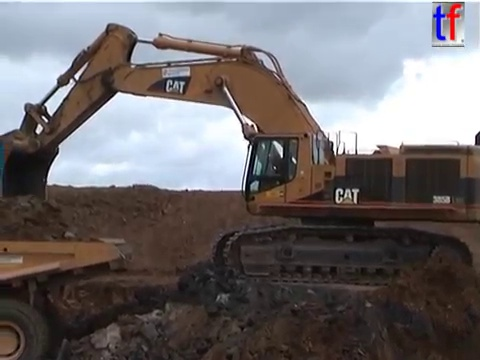excavator: (1, 19, 479, 290)
truck: (1, 234, 135, 360)
